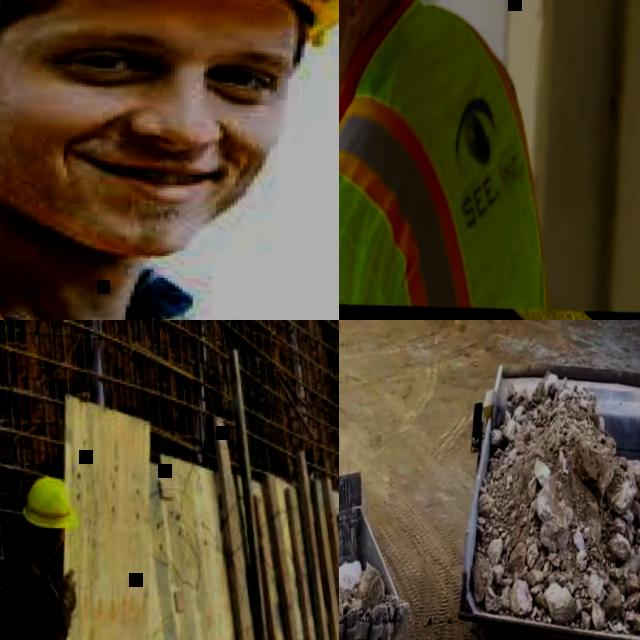Hardhat: (0, 0, 339, 76), (23, 471, 76, 532)
NO-Mask: (0, 75, 273, 260), (339, 21, 357, 127), (40, 531, 61, 555)
NO-Safety Vest: (0, 539, 60, 640)
Person: (0, 0, 339, 320), (339, 0, 575, 311), (0, 463, 98, 640)
Safety Vest: (339, 0, 564, 313), (0, 204, 326, 320)
vehicle: (445, 351, 640, 640), (339, 320, 427, 640)
